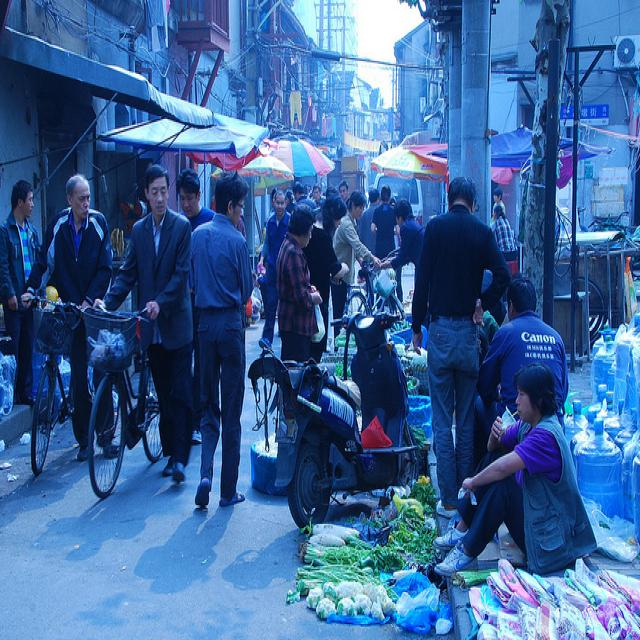motor: (247, 313, 421, 532)
